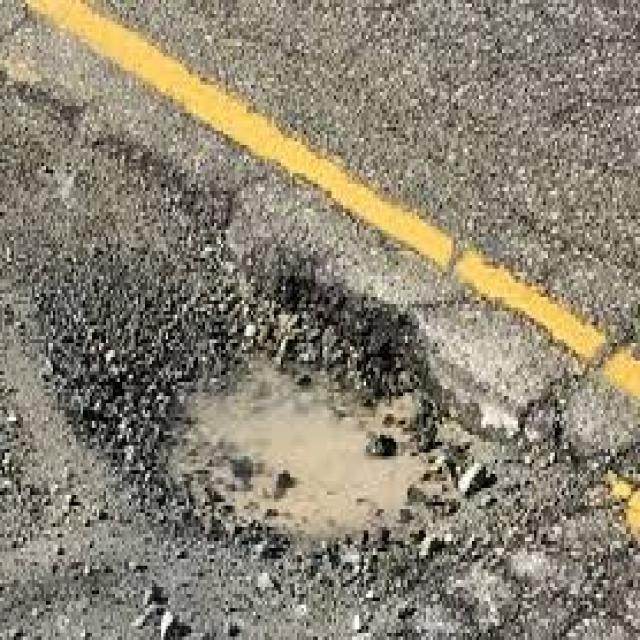Pothole: (0, 65, 610, 639)
